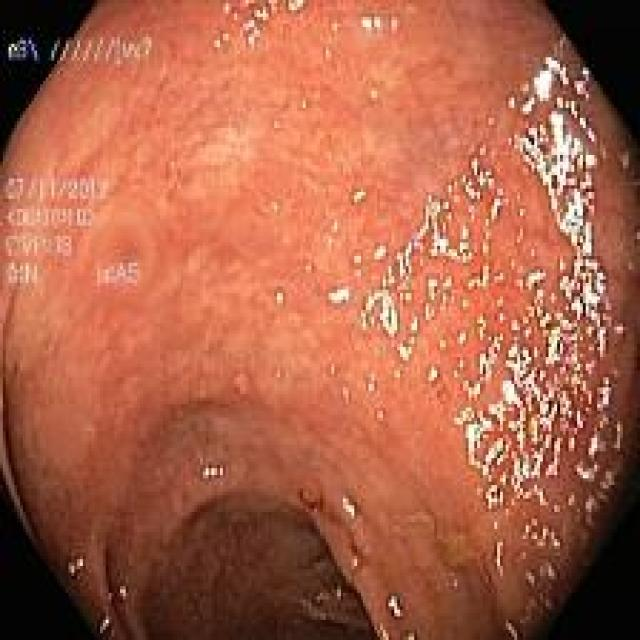ulcerative-colitis-grade-1: (1, 3, 639, 638)
